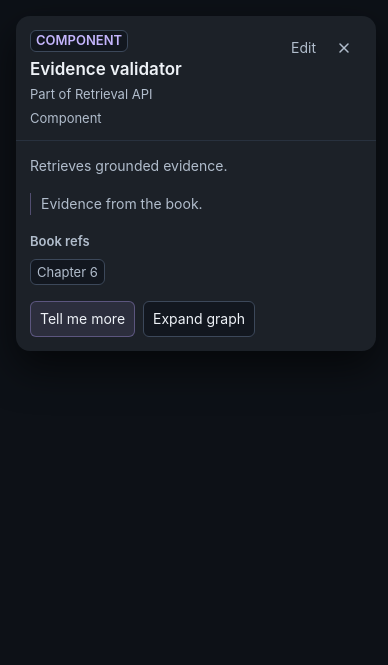
Test: NodeDetailPopup editing › shows a component owner and keeps its type fixed during content edits
Expected: the text "Part of Retrieval API" is shown, [30, 86, 152, 102]
Expected: the text "COMPONENT" is shown, [30, 30, 128, 52]
Click the button with aria-label "Edit details". click: (304, 48)
box: [285, 30, 322, 66]
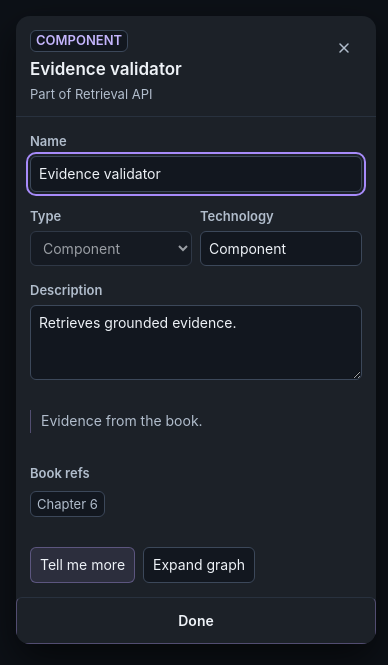
Result: the dropdown labelled "Type" is disabled at [30, 231, 192, 266]
